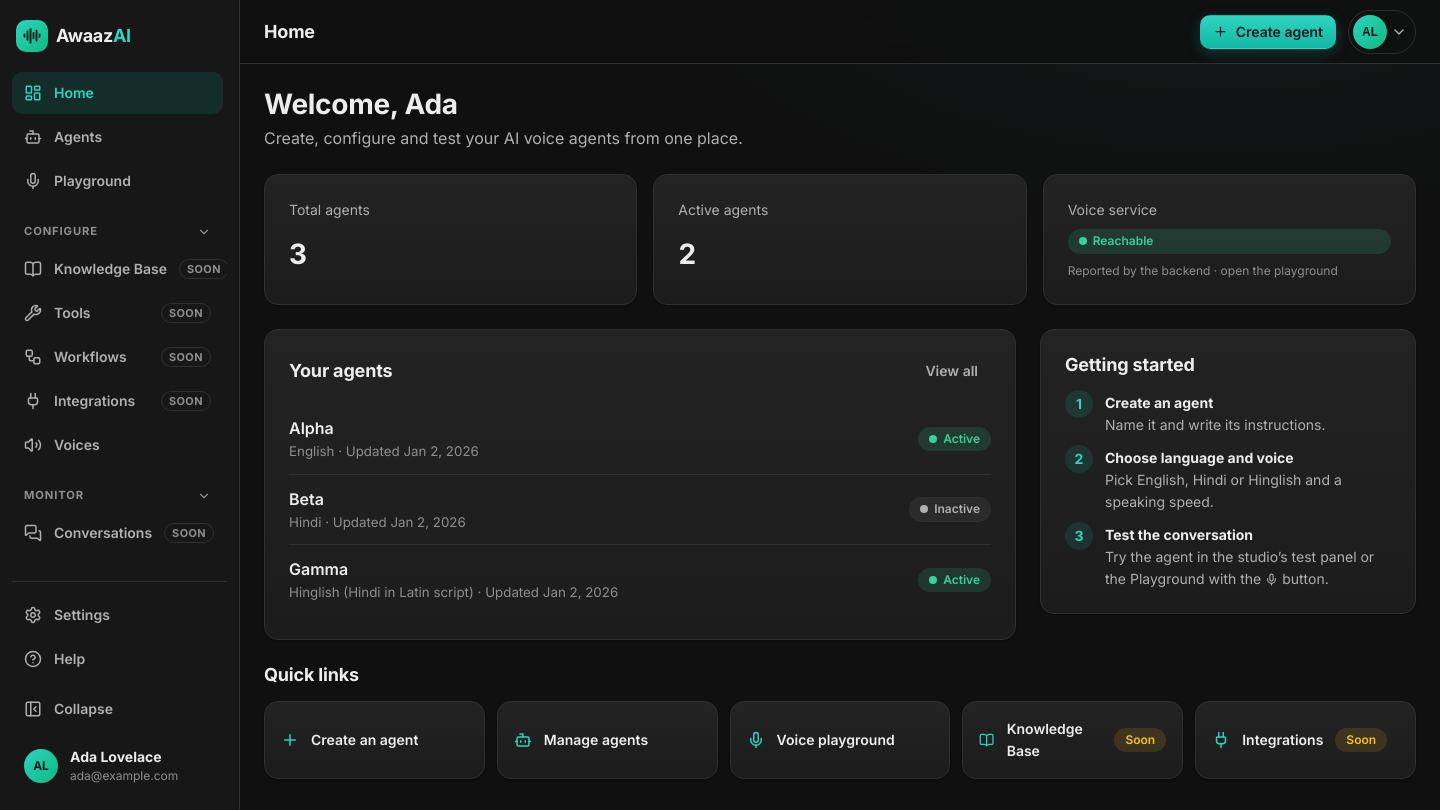
Test: application shell › a collapsed sidebar keeps accessible names and shows tooltips
Click the button with aria-label "Collapse sidebar" at [120, 709], box [12,688,227,730]
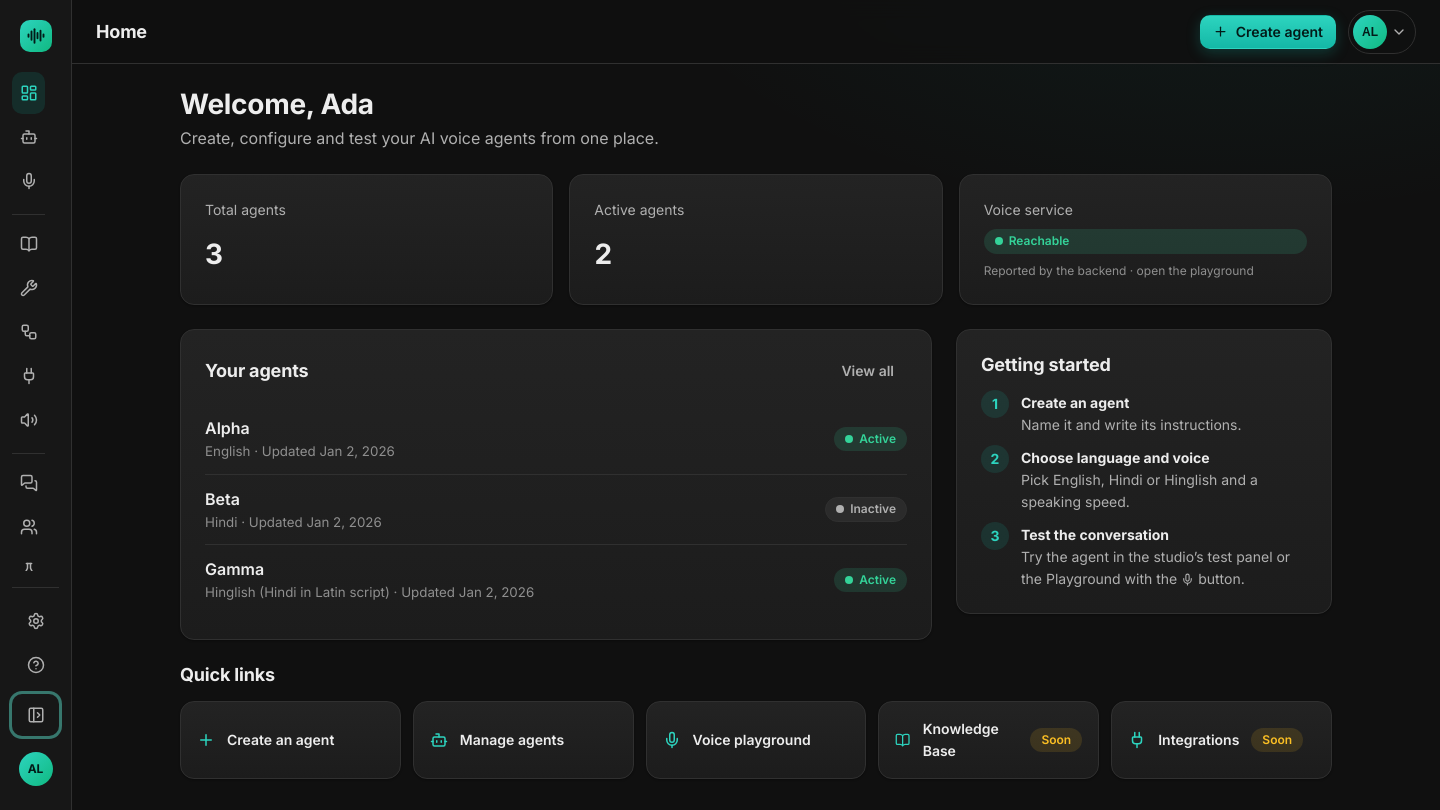
Expected: the link named "Agents" is shown, [20,128,38,146]
